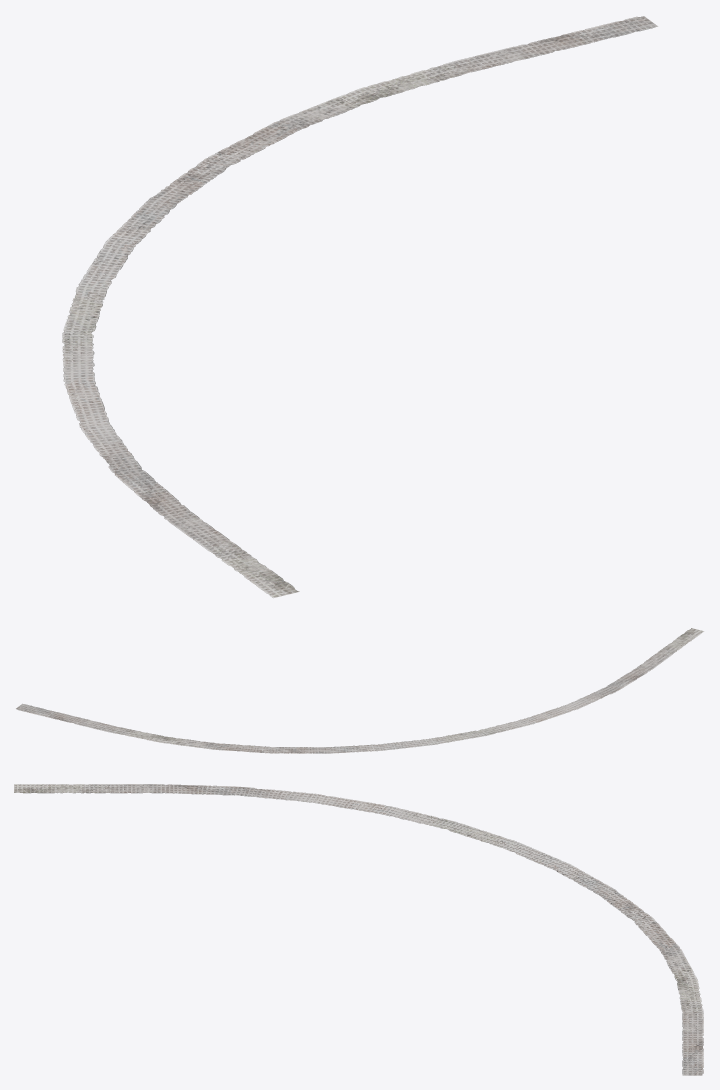
File: CP_Road_Line_A_Angle_01.fbx
3 views of the same model, one above another, from view 1: azimuth 30°, elevation 25°; view 2: azimuth 150°, elevation 25°; view 3: azimuth 270°, elevation 25° (orthographic). The views are drawn at different scales.
Visible parts, largest first — view 1: CP_Road_Line_A_Angle_01; view 2: CP_Road_Line_A_Angle_01; view 3: CP_Road_Line_A_Angle_01.
Boxes of the visible parts, x1,y1,x2,y2 form: CP_Road_Line_A_Angle_01: (62, 16, 657, 598); CP_Road_Line_A_Angle_01: (16, 628, 704, 753); CP_Road_Line_A_Angle_01: (14, 784, 703, 1075).
Size of the model in its own units: 459 by 3.58e-07 by 459.
